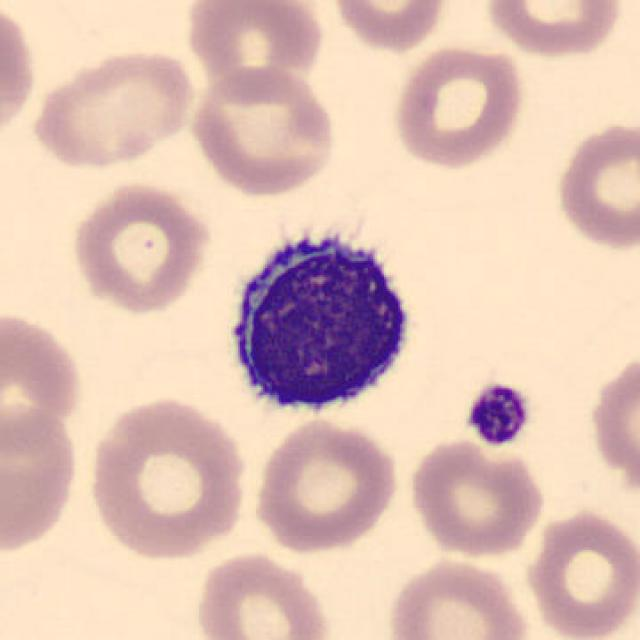Lymphocyte: (213, 218, 427, 428)
Platelets: (462, 381, 534, 448)
RBC: (84, 392, 250, 562), (249, 414, 403, 556), (27, 44, 199, 169), (185, 61, 341, 198), (68, 178, 214, 317), (388, 41, 528, 172), (403, 436, 548, 560), (521, 504, 638, 640), (181, 0, 329, 95), (0, 303, 87, 457), (190, 548, 334, 640), (382, 553, 533, 640), (0, 400, 84, 556), (551, 116, 638, 254), (482, 0, 626, 60), (593, 352, 640, 498), (326, 0, 452, 53), (0, 0, 39, 153)
